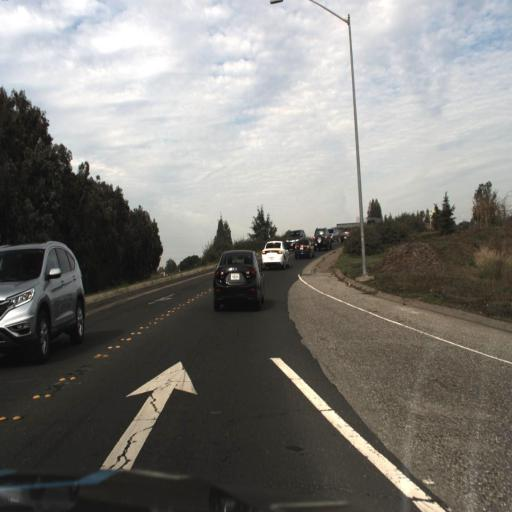car: (0, 236, 87, 355), (211, 248, 266, 312), (261, 238, 292, 272), (261, 238, 289, 272), (312, 222, 334, 254), (293, 236, 313, 263), (337, 226, 358, 250)
